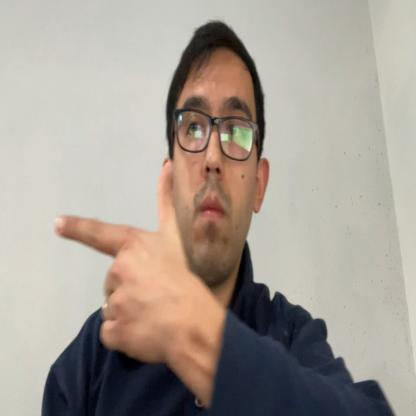G: (56, 165, 186, 367)
